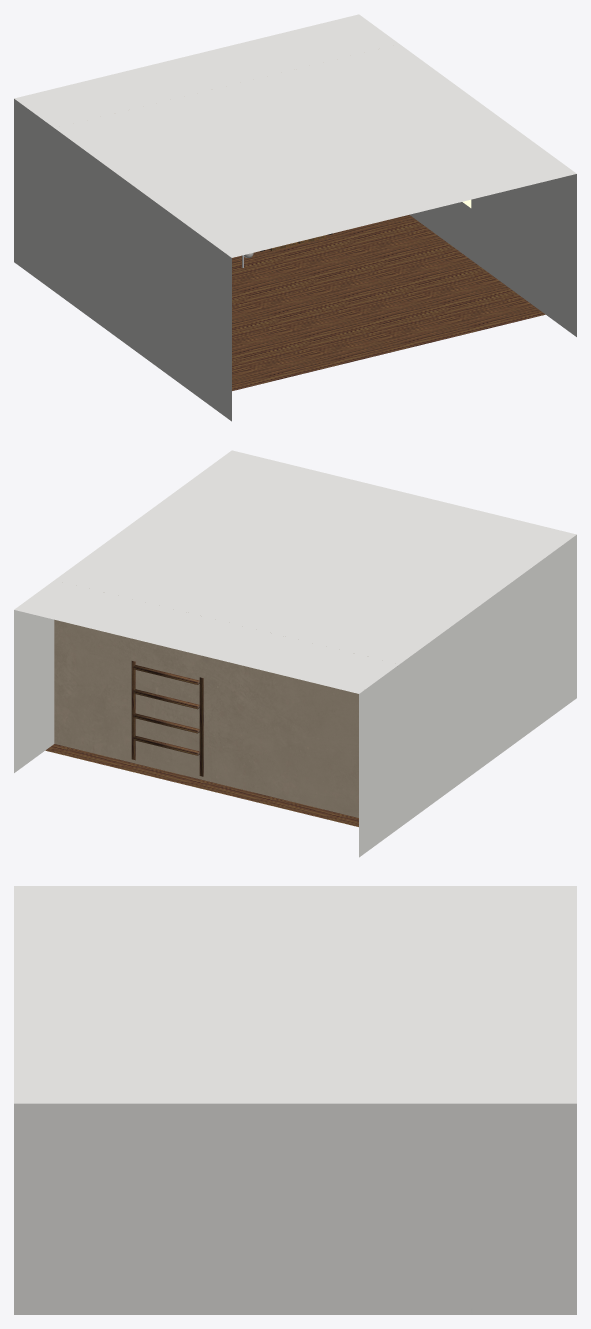
Rendered from room.glb.
The picture shows the model from 3 angles, top to bottom: view 1: azimuth 30°, elevation 25°; view 2: azimuth 150°, elevation 25°; view 3: azimuth 270°, elevation 25°; orthographic projection. The views are drawn at different scales.
Parts seen in each view (by area): view 1: ceiling, wall_left, floor, wall_right; view 2: ceiling, wall_back, wall_left, wall_right, floor; view 3: ceiling, wall_right.
Part boxes in pixels (x1,y1,x2,y2): ceiling: (14, 14, 576, 257); wall_left: (14, 99, 231, 421); floor: (232, 215, 545, 390); wall_right: (409, 174, 576, 336); ceiling: (14, 450, 576, 693); wall_back: (54, 619, 358, 817); wall_left: (359, 535, 576, 857); wall_right: (14, 610, 54, 772); floor: (45, 744, 358, 826); ceiling: (14, 886, 576, 1103); wall_right: (14, 1103, 576, 1314).
Bounding box in the file's own units: 6.4 × 2.9 × 7.
105 materials, 12 textured.
